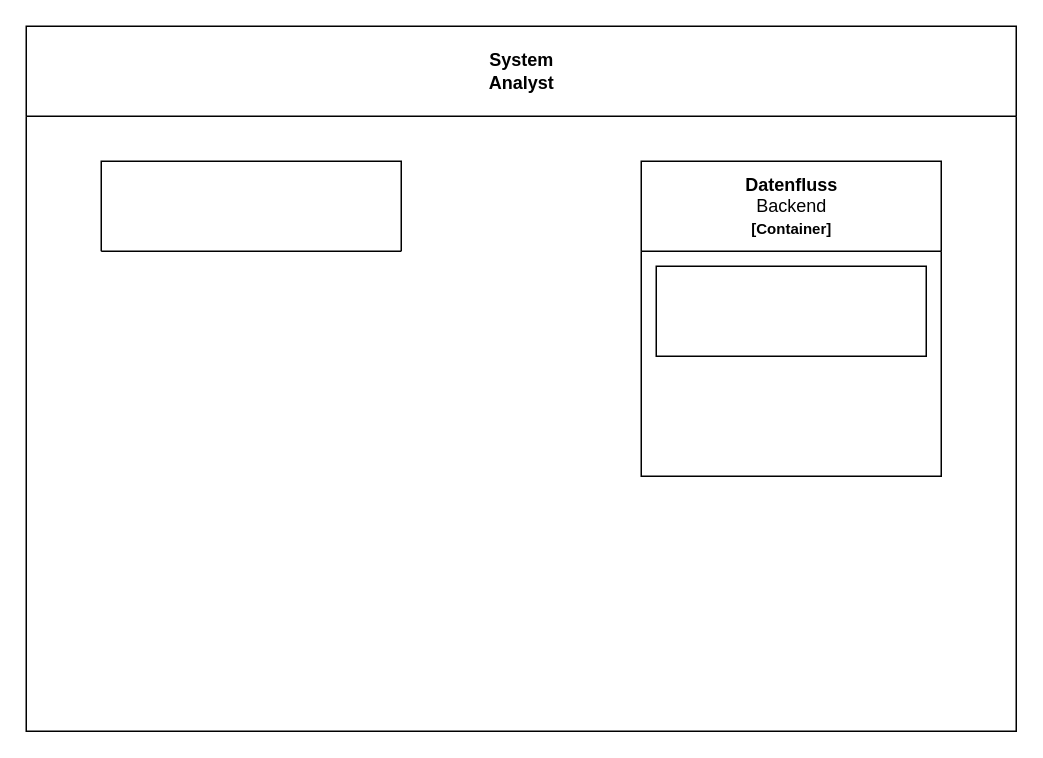
The diagram is 1043 pixels wide and 758 high, and some of its shapes have lost their labels. The shapes that lost their labels are listed below. From the top down, each one's centre as x and y in pixels, then its label:
point (250, 205): Analytic Database PostgreSQL [Container]
point (790, 310): Usage Tracker (Orchestrator)
